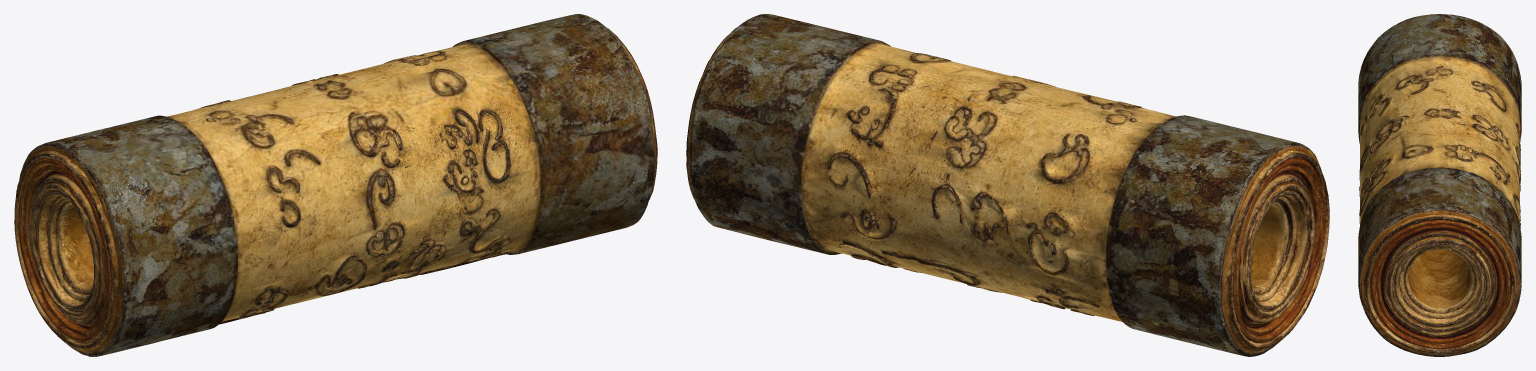
File: e4phayant.glb
3 renders of one model, left to right at view 1: azimuth 30°, elevation 25°; view 2: azimuth 150°, elevation 25°; view 3: azimuth 270°, elevation 25°, orthographic. The views are drawn at different scales.
Size of the model in its own units: 2.9 by 0.9999 by 0.9964.
1 material, 1 textured.
